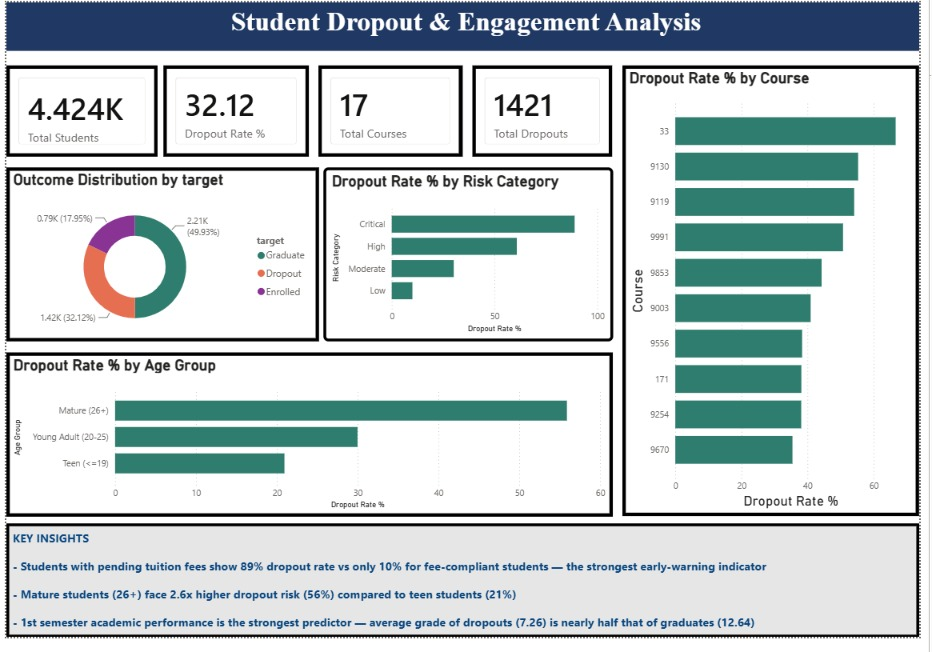

This screenshot's page, from the dashboard's own definition file:
{"tool":"powerbi","page":{"name":"Page 1","canvas":[1280,890],"ordinal":0},"visuals":[{"type":"cardVisual","fields":{"Data":["CountNonNull(cleaned_student_data.target)"]},"box":[0,88,212,128],"z":0},{"type":"cardVisual","fields":{"Data":["cleaned_student_data.Dropout Rate %"]},"box":[220,88,204,128],"z":1},{"type":"clusteredBarChart","fields":{"Category":["cleaned_student_data.Course"],"Y":["cleaned_student_data.Dropout Rate %"]},"box":[864,88,416,632],"z":2},{"type":"clusteredBarChart","fields":{"Category":["cleaned_student_data.Risk Category"],"Y":["cleaned_student_data.Dropout Rate %"]},"box":[444,232,406,244],"z":3},{"type":"clusteredBarChart","fields":{"Category":["cleaned_student_data.Age Group"],"Y":["cleaned_student_data.Dropout Rate %"]},"box":[0,490.8,850,230],"z":4},{"type":"donutChart","fields":{"Category":["cleaned_student_data.target"],"Y":["CountNonNull(cleaned_student_data.target)"]},"box":[0,232,438,244],"z":5},{"type":"textbox","box":[0,0,1280,68],"z":6},{"type":"cardVisual","fields":{"Data":["cleaned_student_data.Total Dropouts"]},"box":[654,88,196,128],"z":7},{"type":"cardVisual","fields":{"Data":["Count(cleaned_student_data.Course)"]},"box":[438,88,202,128],"z":8},{"type":"textbox","box":[0,730.6,1280.3,159.9],"z":9}]}

Visuals, with their boxes in screenshot pixels (x1, y1, x2, y2), scaled from the page's 1280x890 canvas onto the 932x652 screenshot:
cardVisual - CountNonNull(cleaned_student_data.target): left=0, top=64, right=154, bottom=158
cardVisual - cleaned_student_data.Dropout Rate %: left=160, top=64, right=309, bottom=158
clusteredBarChart - cleaned_student_data.Course x cleaned_student_data.Dropout Rate %: left=629, top=64, right=931, bottom=527
clusteredBarChart - cleaned_student_data.Risk Category x cleaned_student_data.Dropout Rate %: left=323, top=170, right=619, bottom=349
clusteredBarChart - cleaned_student_data.Age Group x cleaned_student_data.Dropout Rate %: left=0, top=360, right=619, bottom=528
donutChart - cleaned_student_data.target x CountNonNull(cleaned_student_data.target): left=0, top=170, right=319, bottom=349
textbox: left=0, top=0, right=931, bottom=50
cardVisual - cleaned_student_data.Total Dropouts: left=476, top=64, right=619, bottom=158
cardVisual - Count(cleaned_student_data.Course): left=319, top=64, right=466, bottom=158
textbox: left=0, top=535, right=931, bottom=651
